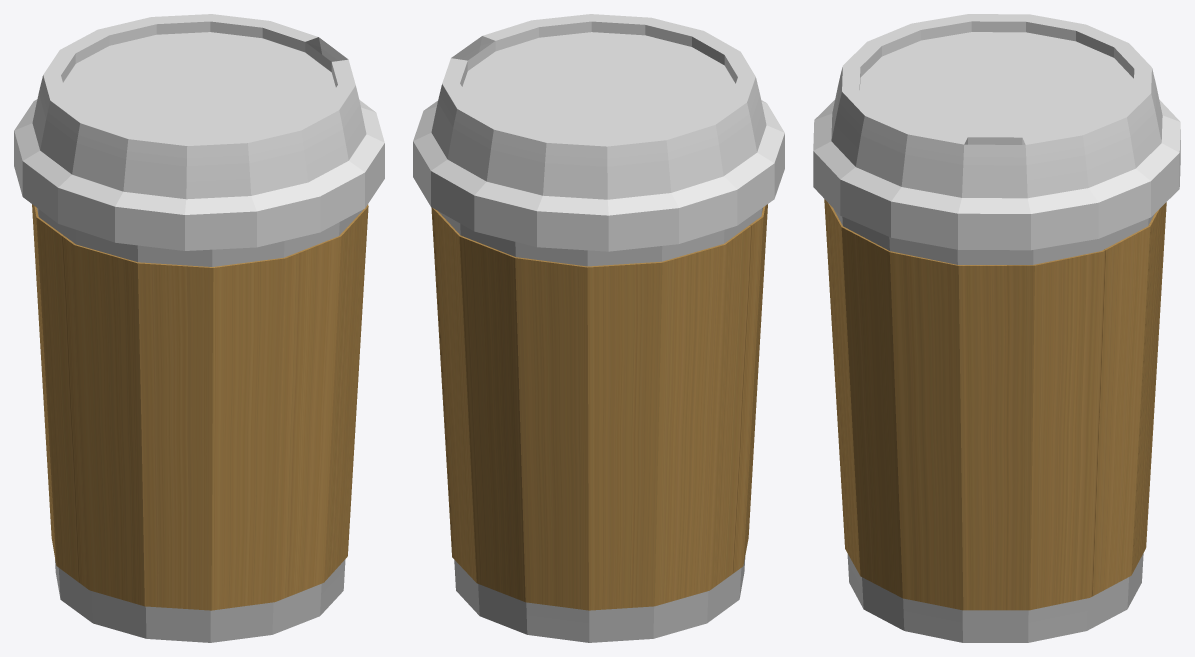
The model's file is Coffee_Cups_05.fbx.
3 renders of one model, left to right at view 1: azimuth 30°, elevation 25°; view 2: azimuth 150°, elevation 25°; view 3: azimuth 270°, elevation 25°, orthographic.
Visible parts, largest first — view 1: Outside Card, Coffee Lid, cup; view 2: Outside Card, Coffee Lid, cup; view 3: Outside Card, Coffee Lid, cup.
Part boxes in pixels (<box>): Outside Card: <box>32,204,368,610</box>; Coffee Lid: <box>14,14,384,250</box>; cup: <box>37,208,363,642</box>; Outside Card: <box>431,204,767,610</box>; Coffee Lid: <box>413,14,784,251</box>; cup: <box>438,208,762,642</box>; Outside Card: <box>824,199,1166,610</box>; Coffee Lid: <box>813,14,1180,250</box>; cup: <box>833,208,1154,642</box>.
Bounding box in the file's own units: 45.1 × 68.17 × 45.1.
